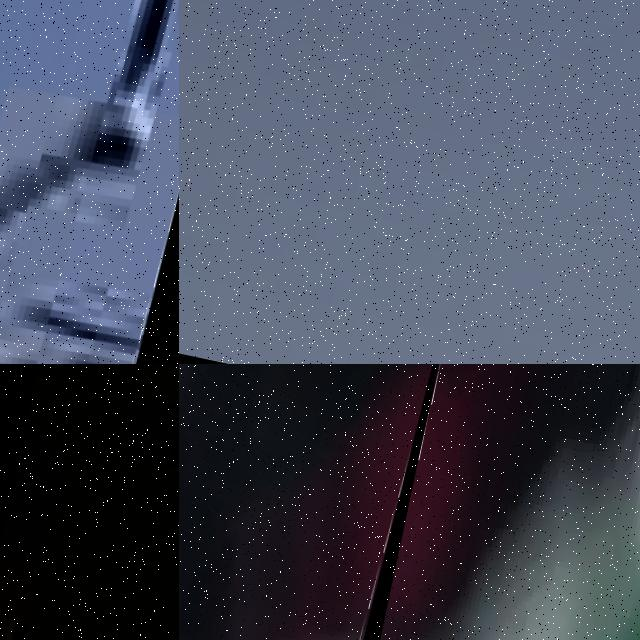0: (0, 0, 179, 364)
drone: (179, 364, 466, 640)
